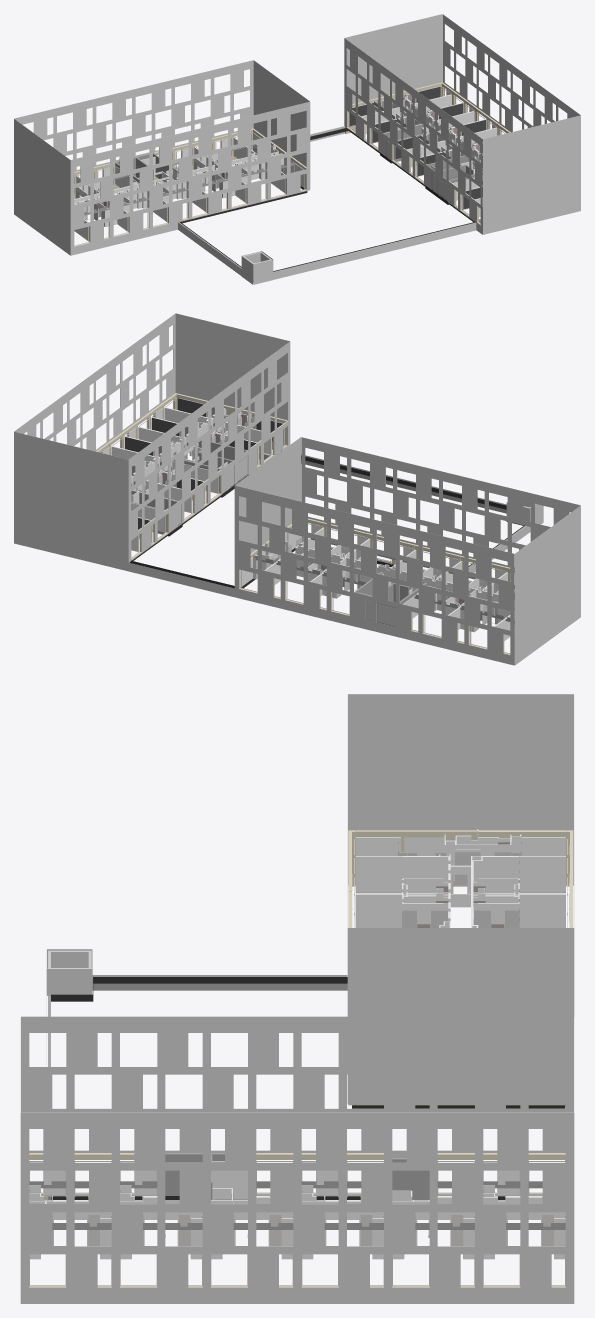
The model's file is model-part.gltf_walls_Piso 1.gltf.
The picture shows the model from 3 angles, top to bottom: view 1: azimuth 30°, elevation 25°; view 2: azimuth 150°, elevation 25°; view 3: azimuth 270°, elevation 25°; orthographic projection. The views are drawn at different scales.
Size of the model in its own units: 65.67 by 14.04 by 36.73.
